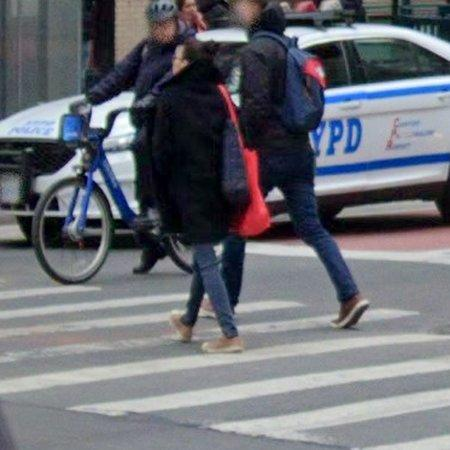crosswalks: (0, 280, 450, 450)
